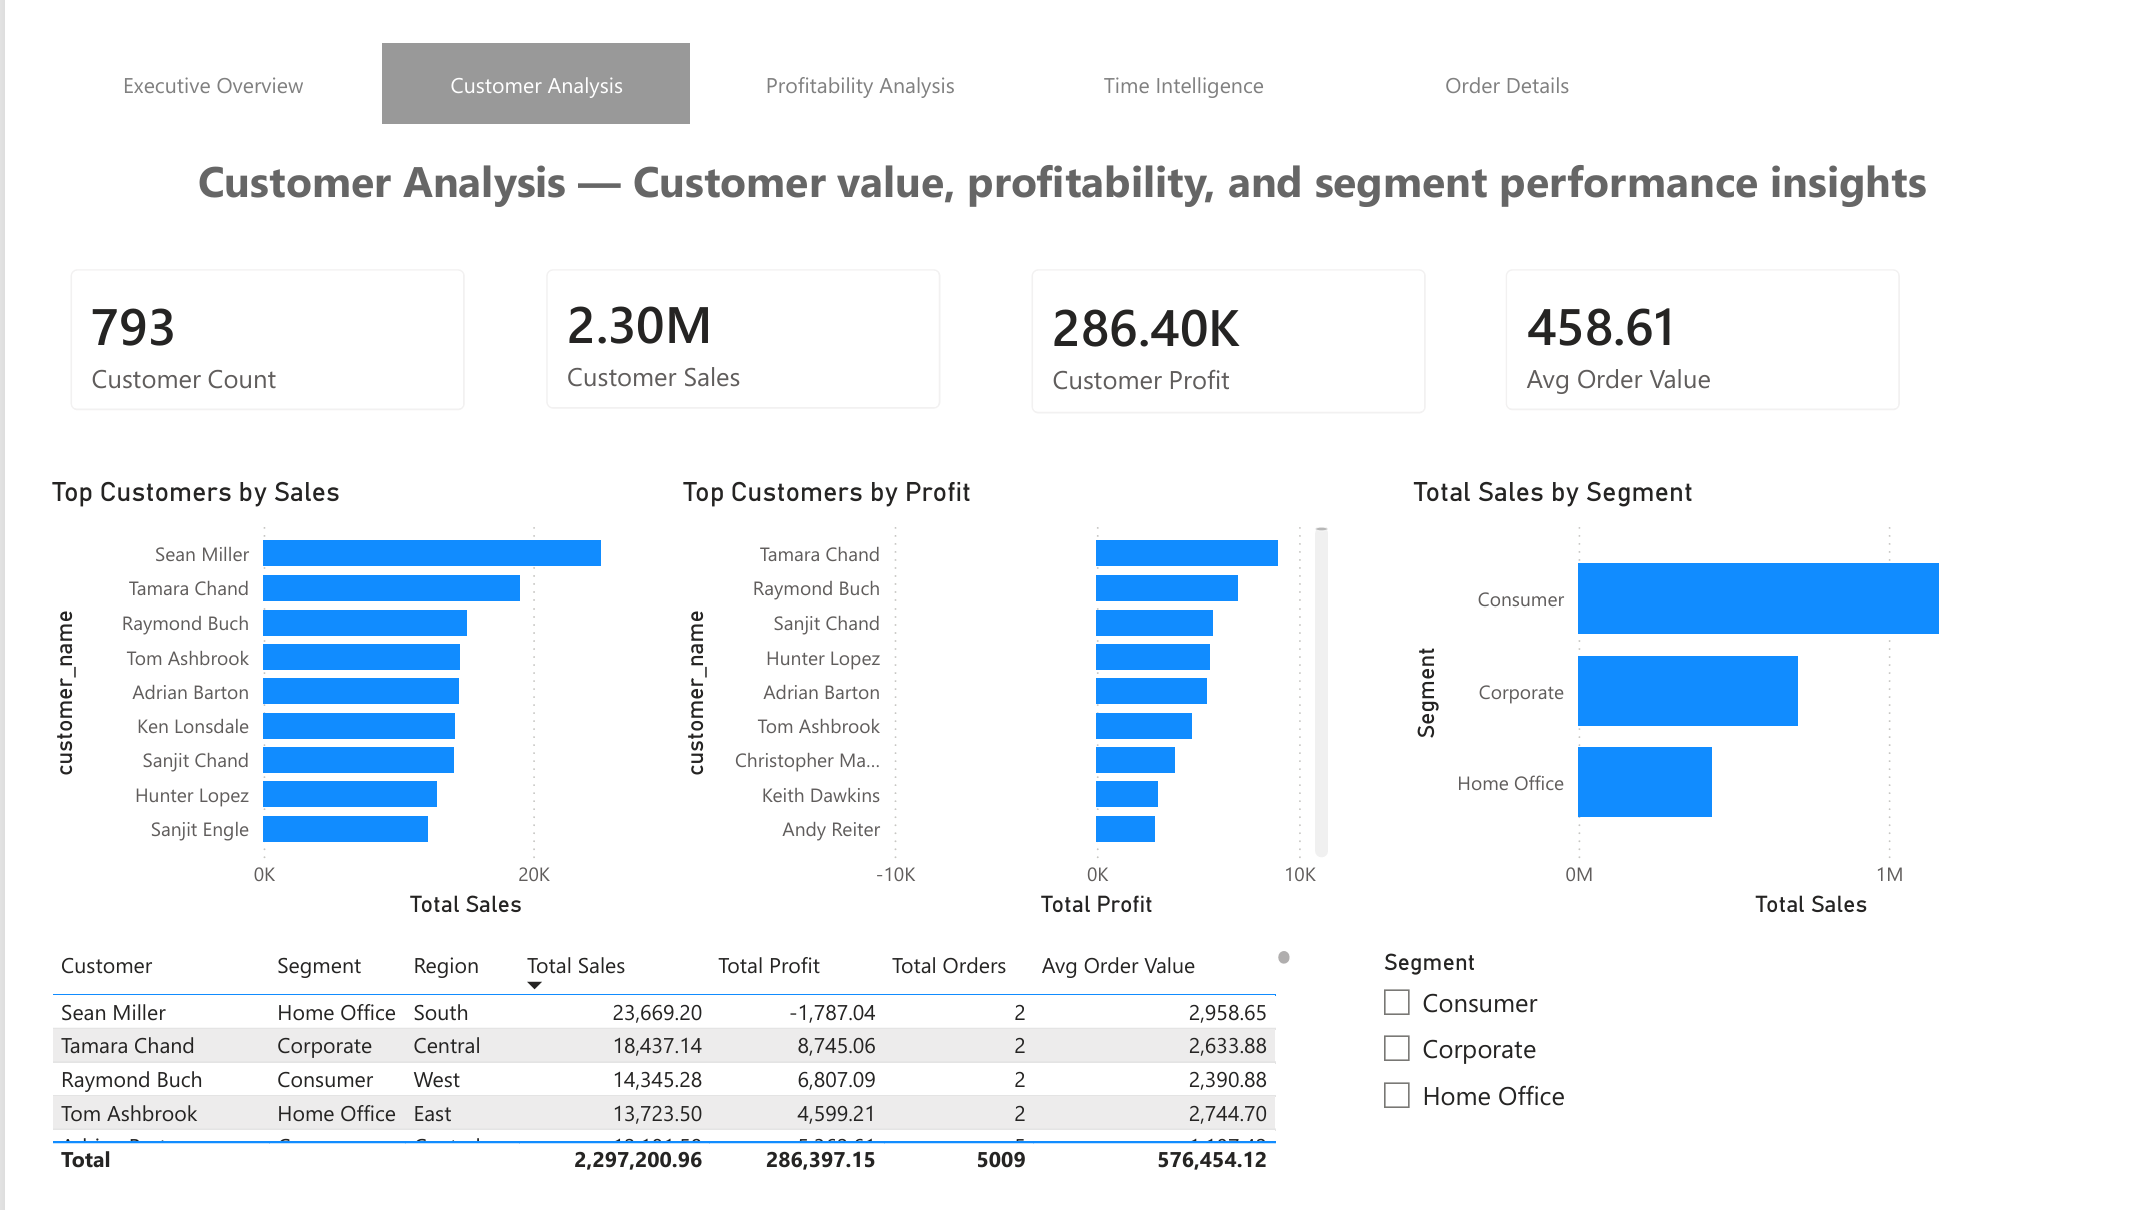

The dashboard page shown, as its layout file describes it:
{"tool":"powerbi","page":{"name":"Customer Analysis","canvas":[1280,720],"ordinal":1},"visuals":[{"type":"clusteredBarChart","title":"Top Customers by Sales","fields":{"Category":["public vw_customer_performance.customer_name"],"Y":["Sum(public vw_customer_performance.total_sales)"]},"box":[0,280.2,412.8,280.2],"z":0},{"type":"clusteredBarChart","title":"Top Customers by Profit","fields":{"Category":["public vw_customer_performance.customer_name"],"Y":["Sum(public vw_customer_performance.total_profit)"]},"box":[393.8,280.2,412.8,280.2],"z":1000},{"type":"clusteredBarChart","fields":{"Category":["public vw_customer_performance.segment"],"Y":["Sum(public vw_customer_performance.total_sales)"]},"box":[850.2,280.2,412.8,280.2],"z":2000},{"type":"cardVisual","fields":{"Data":["public vw_customer_performance.Customer Count"]},"box":[0,134.4,280.2,121.2],"z":3000},{"type":"cardVisual","fields":{"Data":["public vw_customer_performance.Customer Sales"]},"box":[297.3,134.4,280,121],"z":4000},{"type":"cardVisual","fields":{"Data":["public vw_customer_performance.Customer Profit"]},"box":[600.2,134.4,280.2,123.1],"z":5000},{"type":"cardVisual","fields":{"Data":["public vw_customer_performance.Avg Order Value"]},"box":[895.6,134.4,280.2,121.2],"z":6000},{"type":"tableEx","fields":{"Values":["public vw_customer_performance.customer_name","public vw_customer_performance.segment","public vw_customer_performance.region","Sum(public vw_customer_performance.total_sales)","Sum(public vw_customer_performance.total_profit)","Sum(public vw_customer_performance.total_orders)","Sum(public vw_customer_performance.avg_order_value)"]},"box":[0,569.9,783.9,151.5],"z":7000},{"type":"slicer","fields":{"Values":["public vw_customer_performance.Segment"]},"box":[823.7,569.9,280.2,149.6],"z":8000},{"type":"pageNavigator","box":[10,10,1000,50],"z":9000},{"type":"textbox","box":[9.5,72,1253.5,75.7],"z":10000}]}

Visuals, with their boxes in screenshot pixels (x1, y1, x2, y2), scaled from the page's 1280x720 canvas onto the 2130x1210 screenshot:
"Top Customers by Sales" clusteredBarChart: (left=0, top=471, right=687, bottom=942)
"Top Customers by Profit" clusteredBarChart: (left=655, top=471, right=1342, bottom=942)
clusteredBarChart - public vw_customer_performance.segment x Sum(public vw_customer_performance.total_sales): (left=1415, top=471, right=2102, bottom=942)
cardVisual - public vw_customer_performance.Customer Count: (left=0, top=226, right=466, bottom=430)
cardVisual - public vw_customer_performance.Customer Sales: (left=495, top=226, right=961, bottom=429)
cardVisual - public vw_customer_performance.Customer Profit: (left=999, top=226, right=1465, bottom=433)
cardVisual - public vw_customer_performance.Avg Order Value: (left=1490, top=226, right=1957, bottom=430)
tableEx - public vw_customer_performance.customer_name x public vw_customer_performance.segment: (left=0, top=958, right=1304, bottom=1209)
slicer - public vw_customer_performance.Segment: (left=1371, top=958, right=1837, bottom=1209)
pageNavigator: (left=17, top=17, right=1681, bottom=101)
textbox: (left=16, top=121, right=2102, bottom=248)
